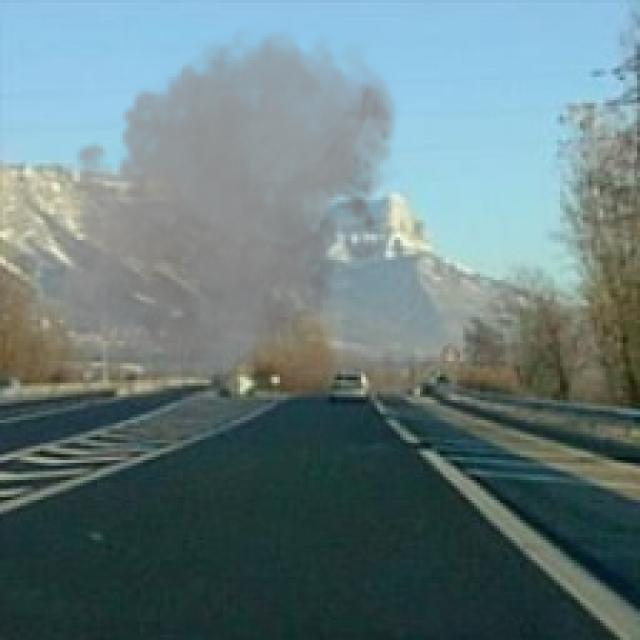Smoke: (51, 20, 403, 397)
